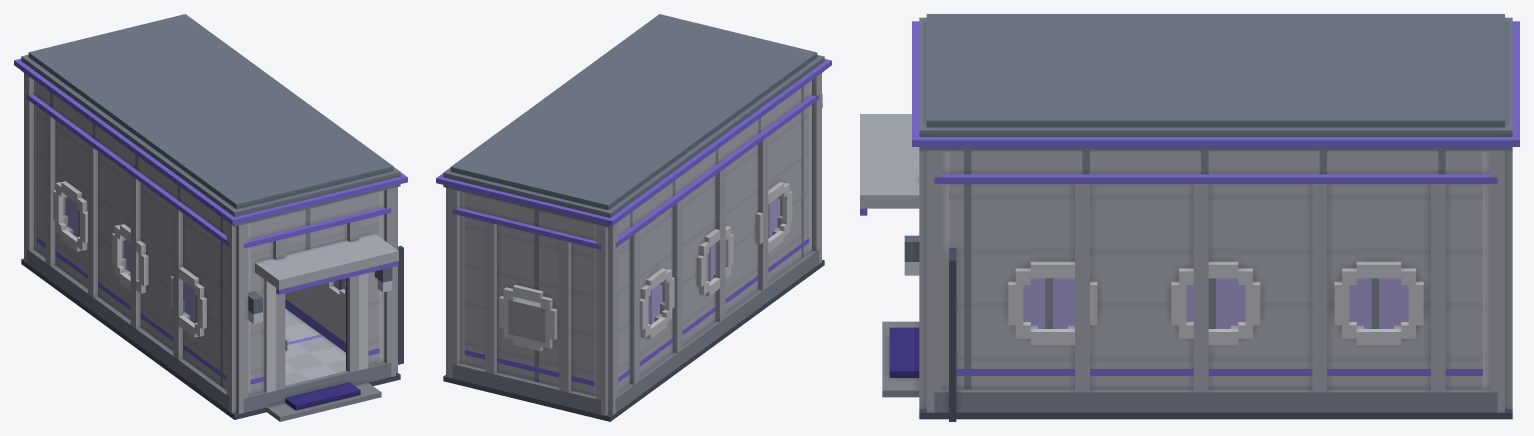
Rendered from training_e5_l3.glb.
3 views of the same model, side by side, from view 1: azimuth 30°, elevation 25°; view 2: azimuth 150°, elevation 25°; view 3: azimuth 270°, elevation 25° (orthographic). The views are drawn at different scales.
Parts seen in each view (by area): view 1: CutRoof, CutNX, Base, CutPZ, CutNZ, CutPX; view 2: CutRoof, CutNX, CutNZ, Base, CutPZ; view 3: CutPX, CutRoof, Base, CutPZ, CutNZ.
Part boxes in pixels (x1,y1,x2,y2): CutRoof: (14, 14, 407, 226); CutNX: (26, 82, 229, 361); Base: (21, 218, 403, 421); CutPZ: (226, 187, 403, 370); CutNZ: (24, 73, 36, 221); CutPX: (314, 278, 345, 308); CutRoof: (436, 14, 831, 227); CutNX: (615, 82, 819, 362); CutNZ: (446, 188, 618, 372); Base: (443, 219, 824, 421); CutPZ: (809, 73, 822, 222); CutPX: (934, 150, 1497, 351); CutRoof: (912, 14, 1519, 150); Base: (882, 321, 1512, 421); CutPZ: (860, 114, 956, 361); CutNZ: (1483, 150, 1512, 351).
Size of the model in its own units: 4 by 4.4 by 8.9.
